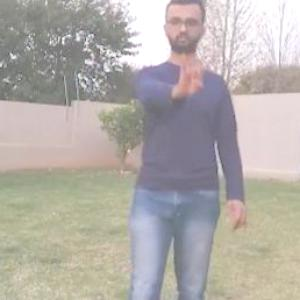takeoff-hand: (168, 46, 212, 102)
